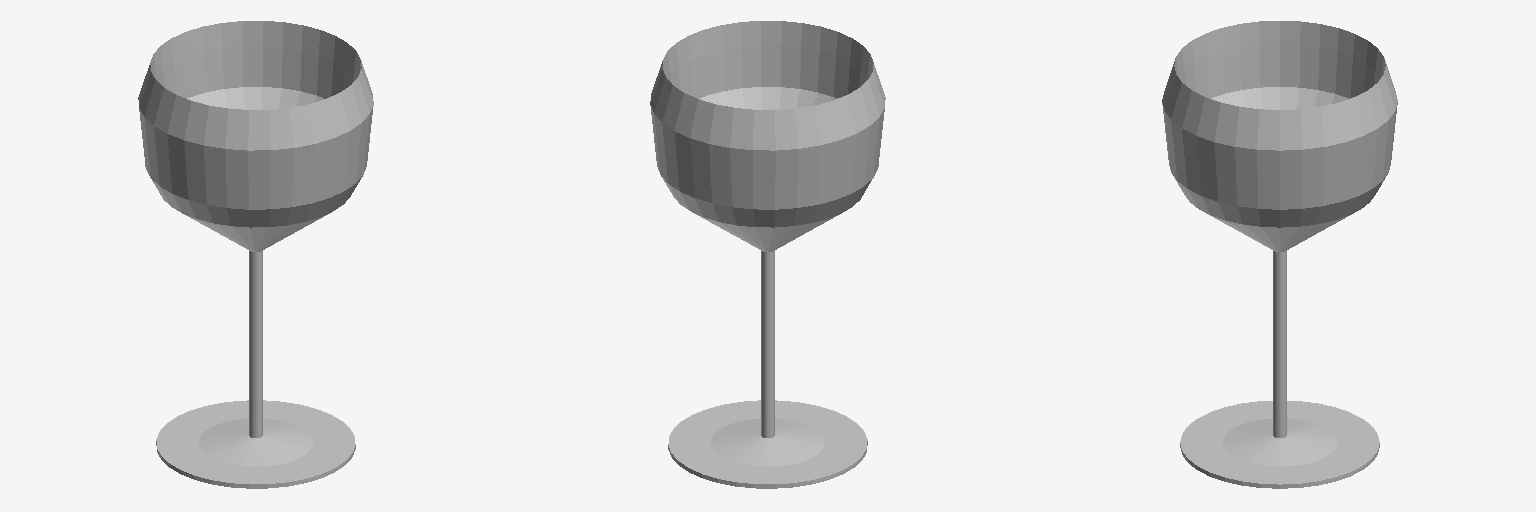
The model's file is glass.obj.
The picture shows the model from 3 angles: view 1: azimuth 30°, elevation 25°; view 2: azimuth 150°, elevation 25°; view 3: azimuth 270°, elevation 25°; orthographic projection.
Parts seen in each view (by area): view 1: Cylinder; view 2: Cylinder; view 3: Cylinder.
Boxes of the visible parts, x1,y1,x2,y2 form: Cylinder: [138, 21, 373, 488]; Cylinder: [650, 21, 885, 488]; Cylinder: [1162, 21, 1397, 488].
Bounding box in the file's own units: 2.43 × 4.33 × 2.43.